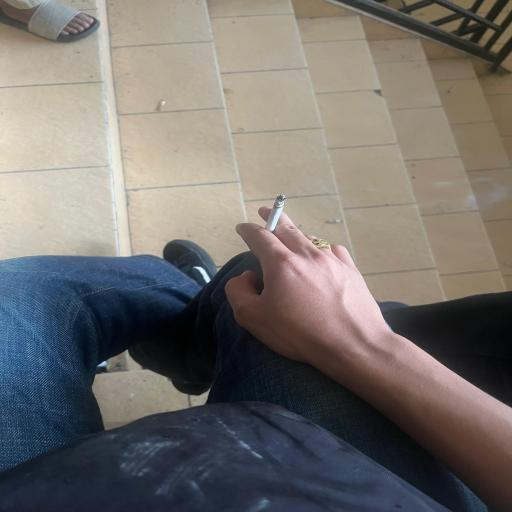terdeteksi pegang rokok: (218, 173, 348, 328)
